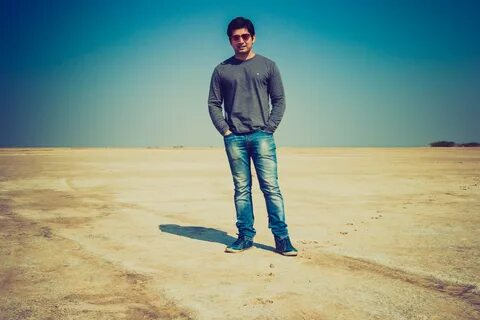awake: (207, 16, 300, 257)
